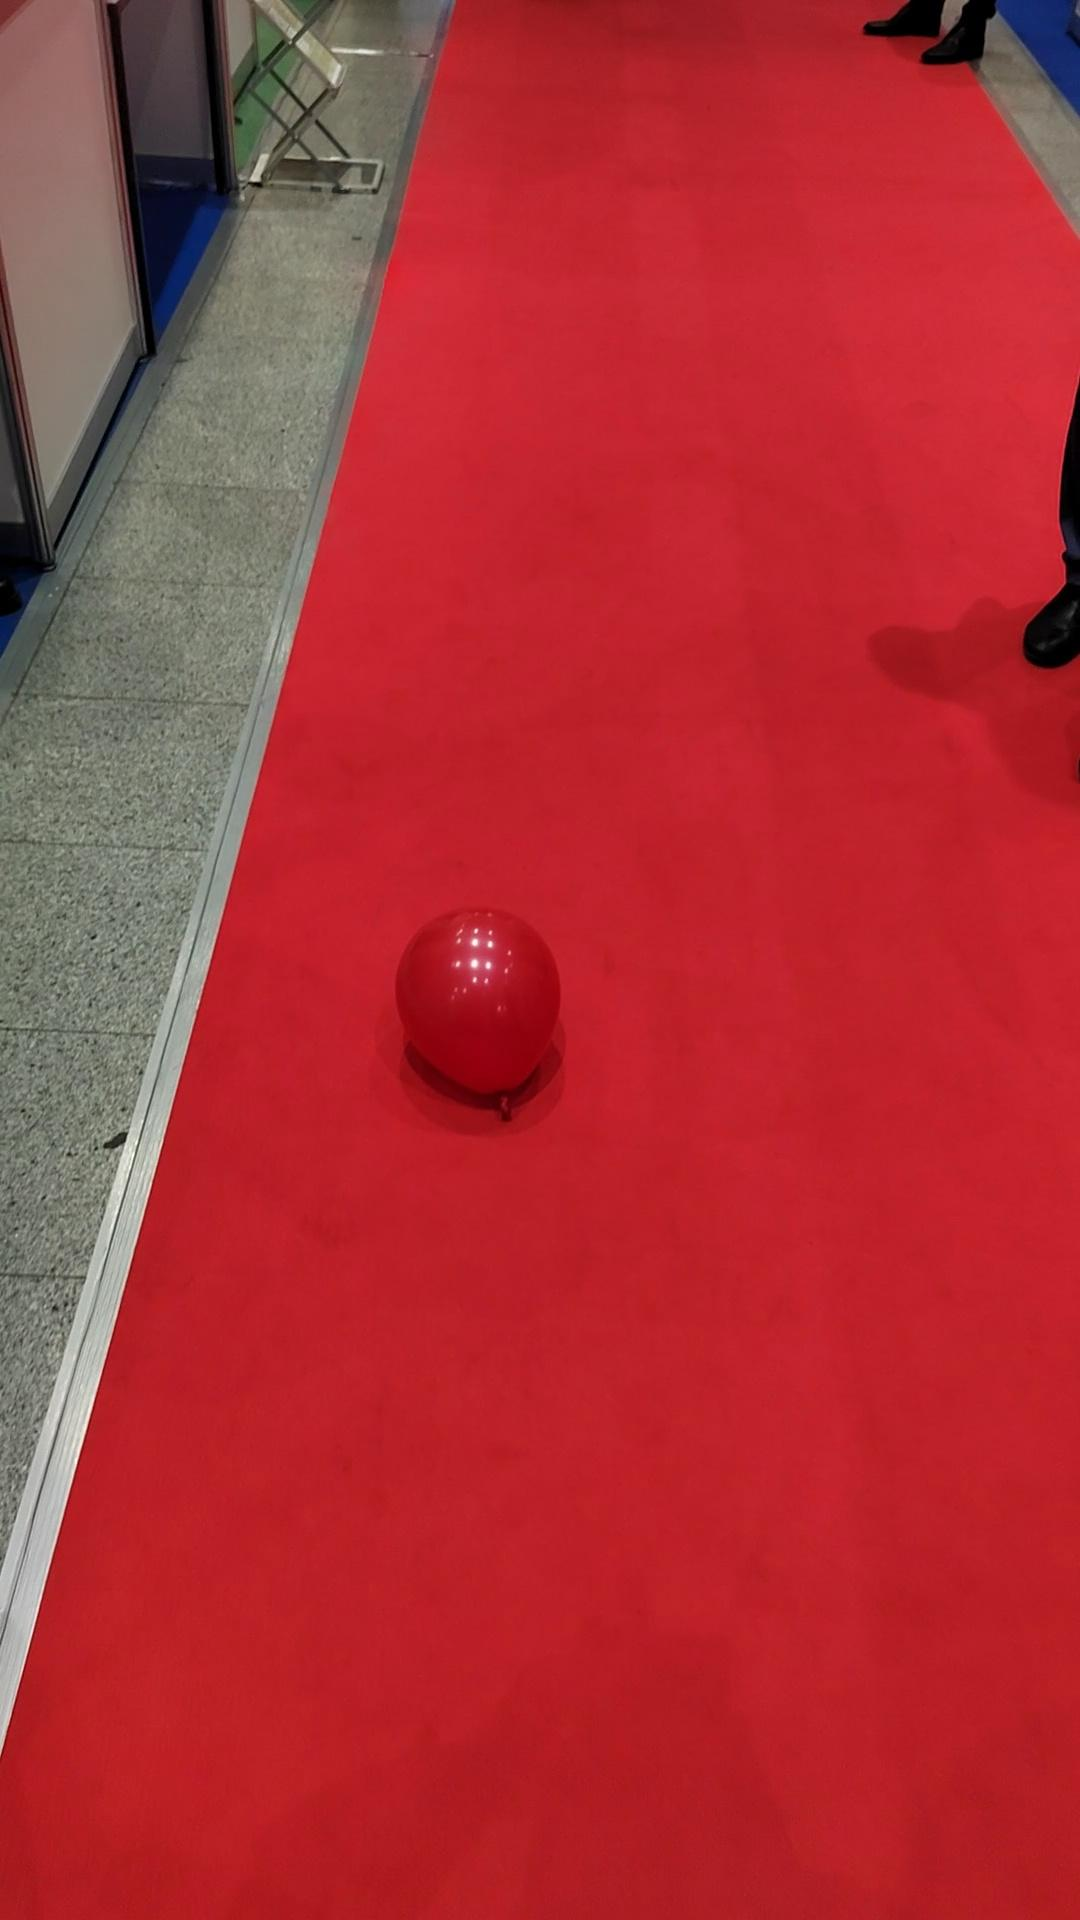red: (395, 910, 563, 1102)
